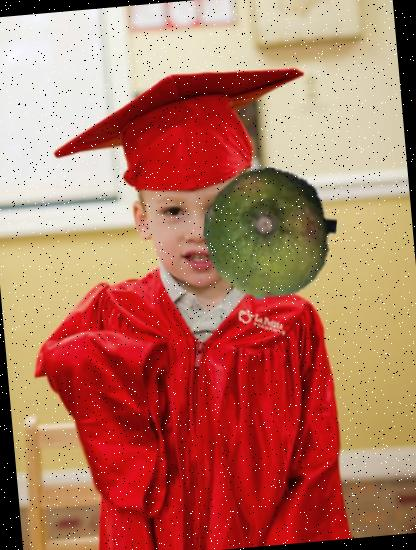Limes: (198, 162, 342, 306)
